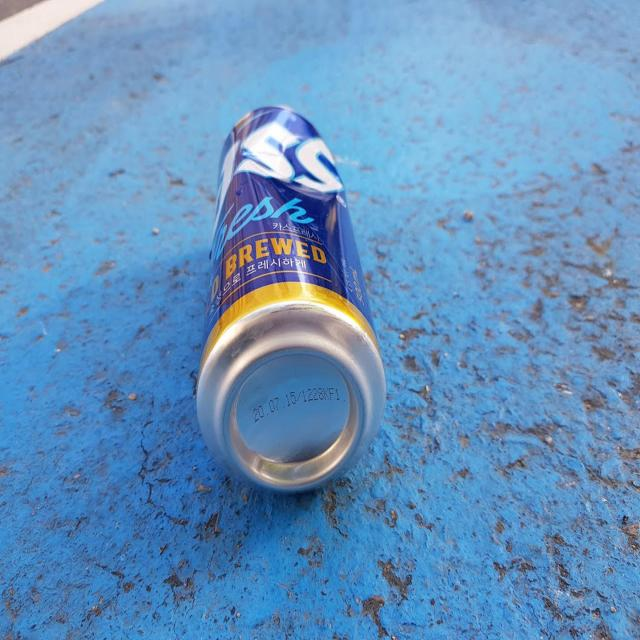can: (197, 106, 386, 493)
